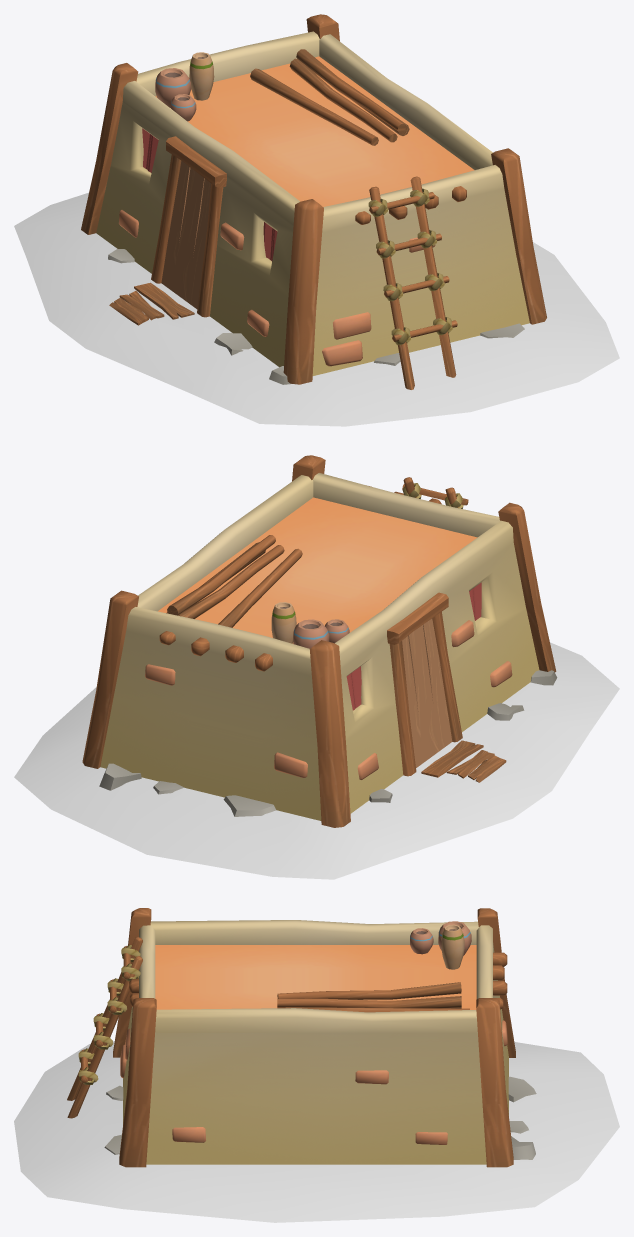
File: DesertHouse-03.fbx
3 views of the same model, one above another, from view 1: azimuth 30°, elevation 25°; view 2: azimuth 150°, elevation 25°; view 3: azimuth 270°, elevation 25° (orthographic). The views are drawn at different scales.
Parts seen in each view (by area): view 1: DesertHouse-03; view 2: DesertHouse-03; view 3: DesertHouse-03.
Part boxes in pixels (x1=…): DesertHouse-03: x1=14, y1=14, x2=619, y2=426; DesertHouse-03: x1=14, y1=455, x2=619, y2=879; DesertHouse-03: x1=14, y1=908, x2=619, y2=1222.
Size of the model in its own units: 3.17 by 1.3 by 4.
